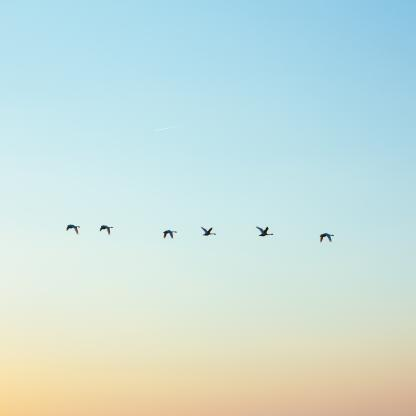bird: (256, 225, 274, 237), (100, 224, 114, 236), (66, 224, 81, 235), (201, 226, 216, 236), (163, 230, 177, 240), (320, 233, 334, 243)
